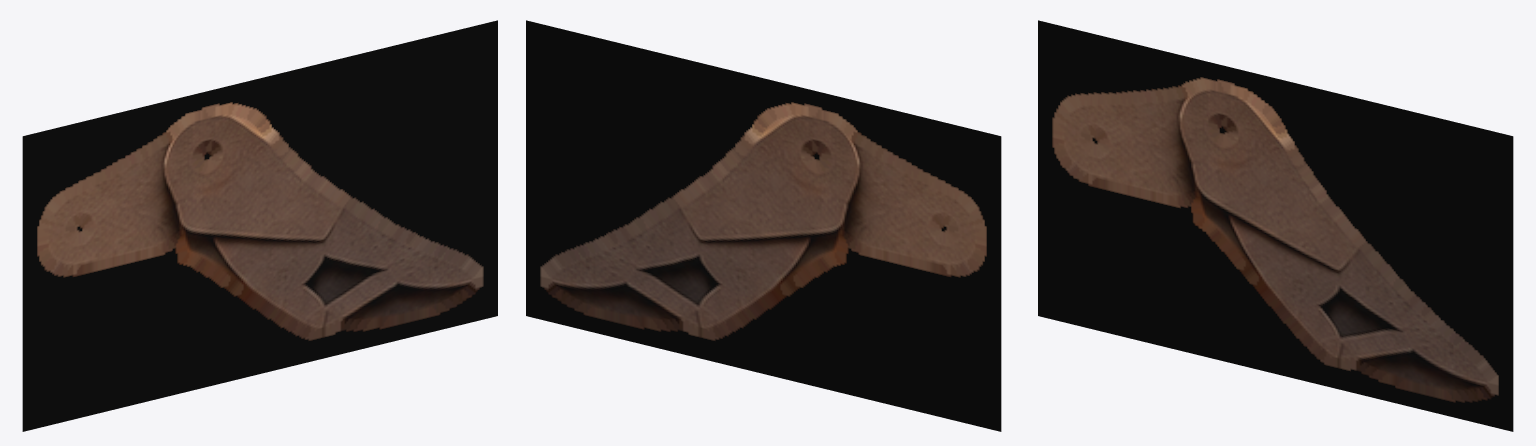
Rendered from ThighRight.glb.
The picture shows the model from 3 angles, left to right: view 1: azimuth 30°, elevation 25°; view 2: azimuth 150°, elevation 25°; view 3: azimuth 330°, elevation 25°; orthographic projection.
Visible parts, largest first — view 1: PaperVolume; view 2: PaperVolume; view 3: PaperVolume.
Part boxes in pixels (x1=…): PaperVolume: x1=22, y1=20, x2=497, y2=431; PaperVolume: x1=526, y1=20, x2=1001, y2=431; PaperVolume: x1=1038, y1=20, x2=1513, y2=431.
Size of the model in its own units: 2.54 by 1.51 by 0.08.
Materials: 3 (2 with a texture image).
